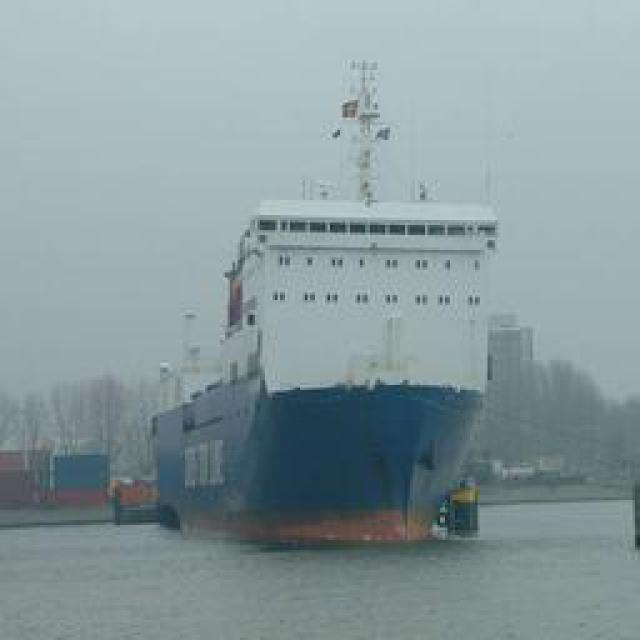Ship: (150, 45, 505, 545)
